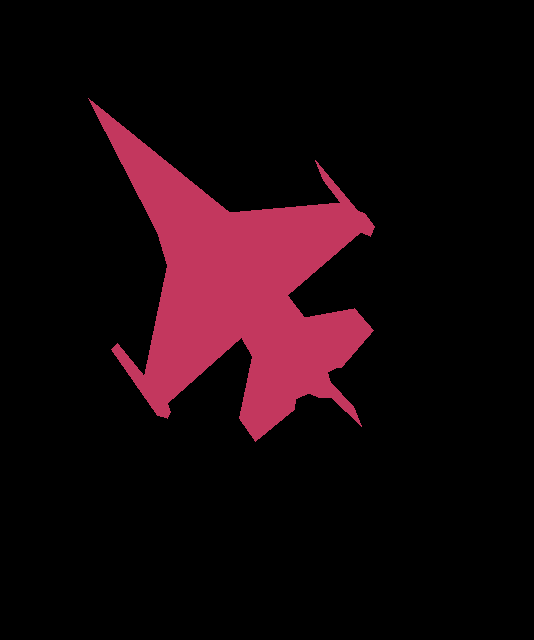Airplane: (88, 98, 375, 441)
